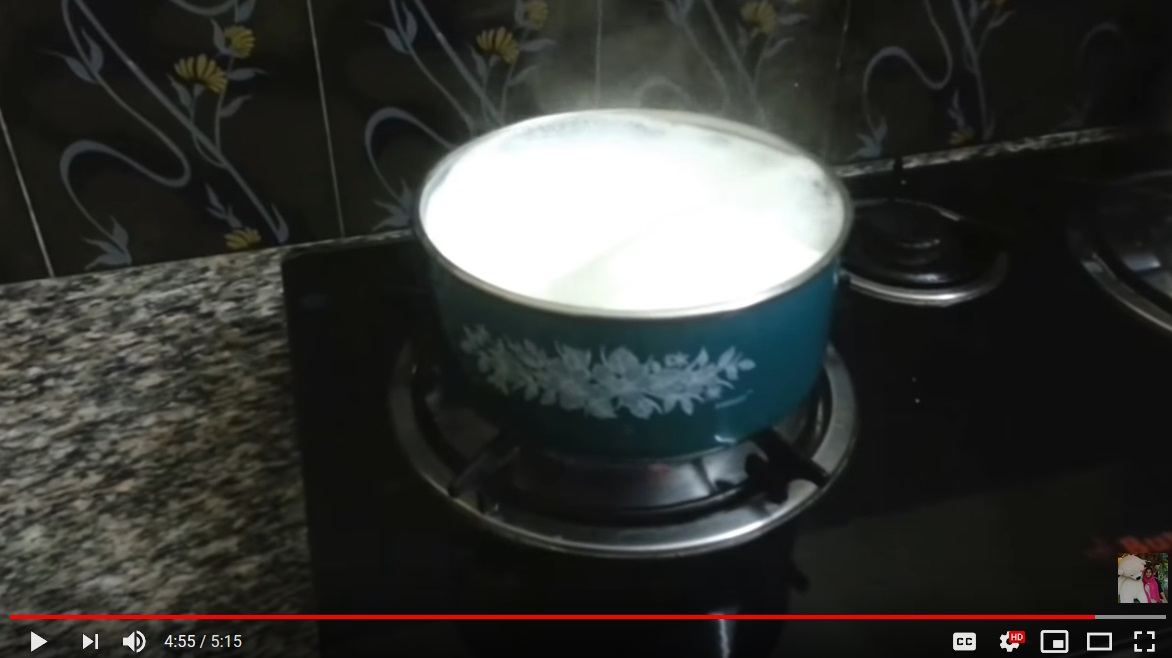Boiled: (397, 101, 875, 453)
